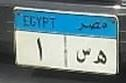1: (35, 36, 44, 61)
haa: (92, 47, 107, 67)
seen: (75, 46, 91, 65)
